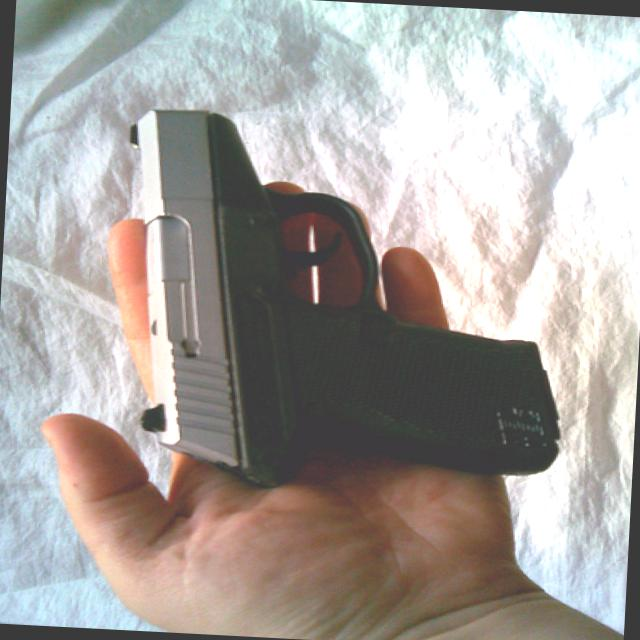handgun: (104, 106, 584, 512)
